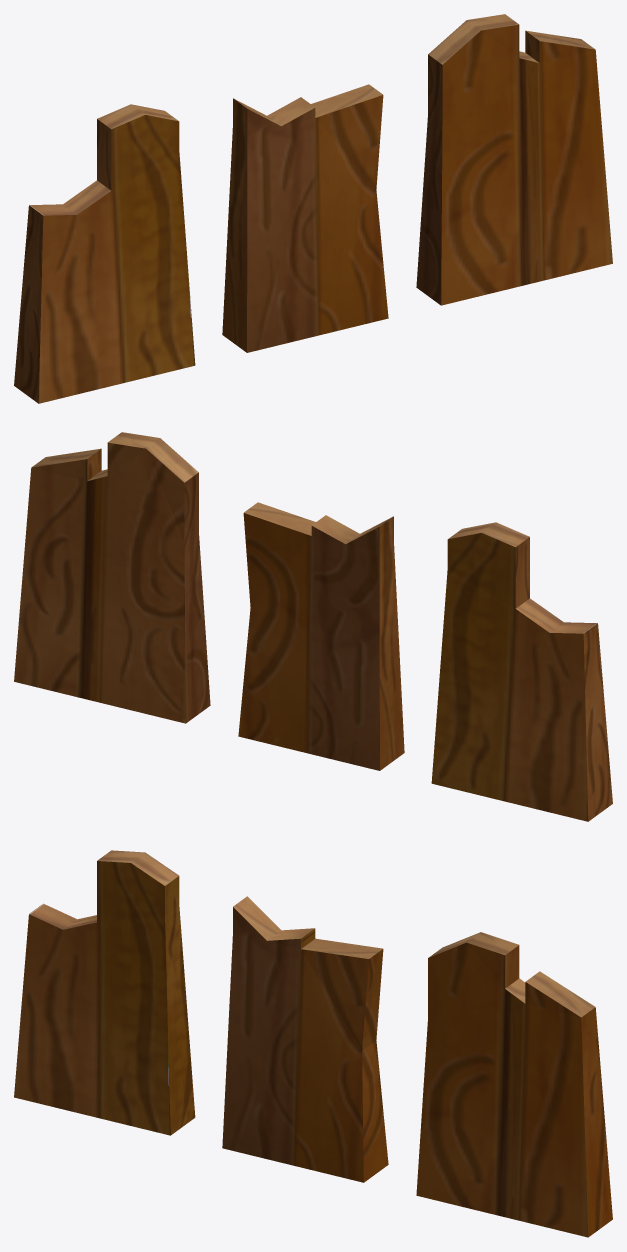
The model's file is Fence_01.FBX.
The picture shows the model from 3 angles, top to bottom: view 1: azimuth 30°, elevation 25°; view 2: azimuth 150°, elevation 25°; view 3: azimuth 330°, elevation 25°; orthographic projection.
Visible parts, largest first — view 1: fence_01; view 2: fence_01; view 3: fence_01.
Boxes of the visible parts, x1,y1,x2,y2 form: fence_01: (14, 14, 612, 403); fence_01: (14, 432, 612, 821); fence_01: (14, 850, 612, 1237).
Bounding box in the file's own units: 97.47 × 42.22 × 7.26.
